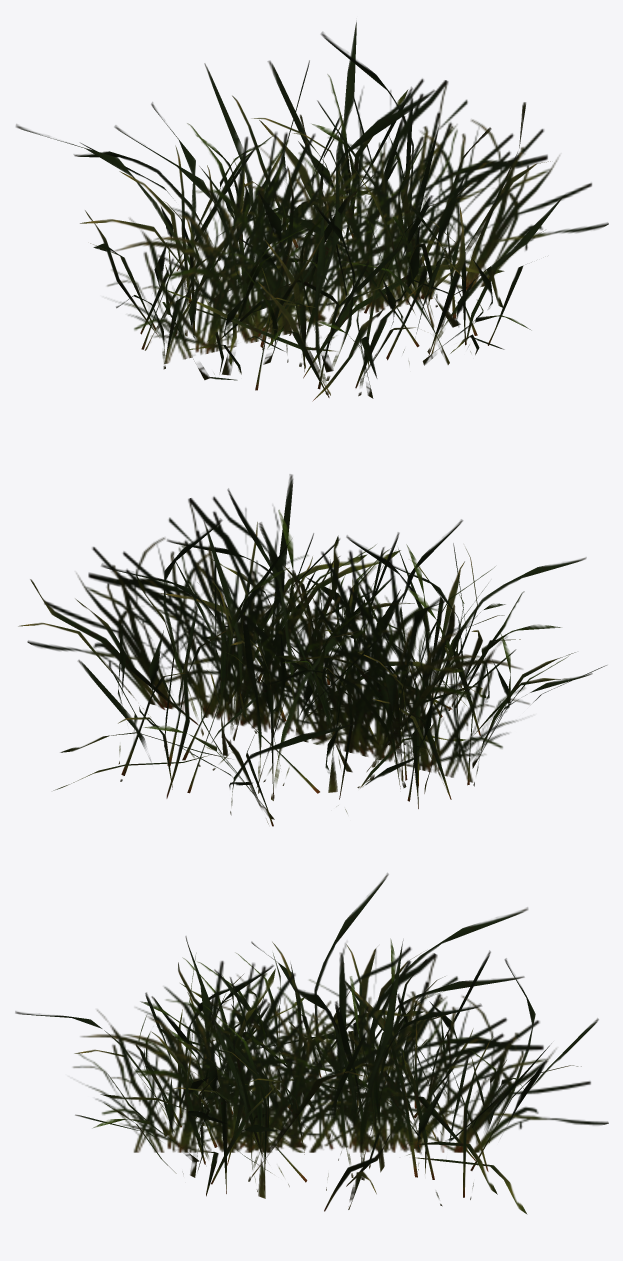
File: pine_grass_a.glb
3 renders of one model, top to bottom at view 1: azimuth 30°, elevation 25°; view 2: azimuth 150°, elevation 25°; view 3: azimuth 270°, elevation 25°, orthographic. The views are drawn at different scales.
Visible parts, largest first — view 1: pine_grass_a; view 2: pine_grass_a; view 3: pine_grass_a.
Boxes of the visible parts, x1,y1,x2,y2 form: pine_grass_a: (16, 22, 608, 401); pine_grass_a: (18, 474, 606, 826); pine_grass_a: (15, 873, 608, 1214).
Bounding box in the file's own units: 1.31 × 0.5836 × 1.33.
1 material, 1 textured.
